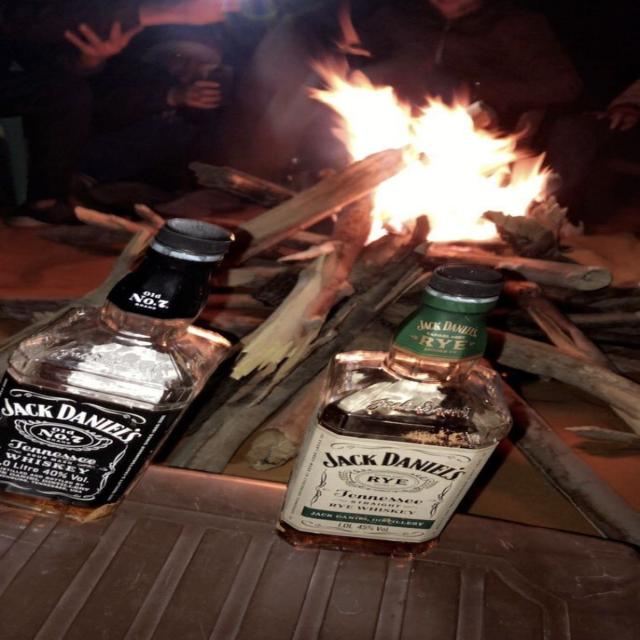fire: (309, 74, 551, 245)
